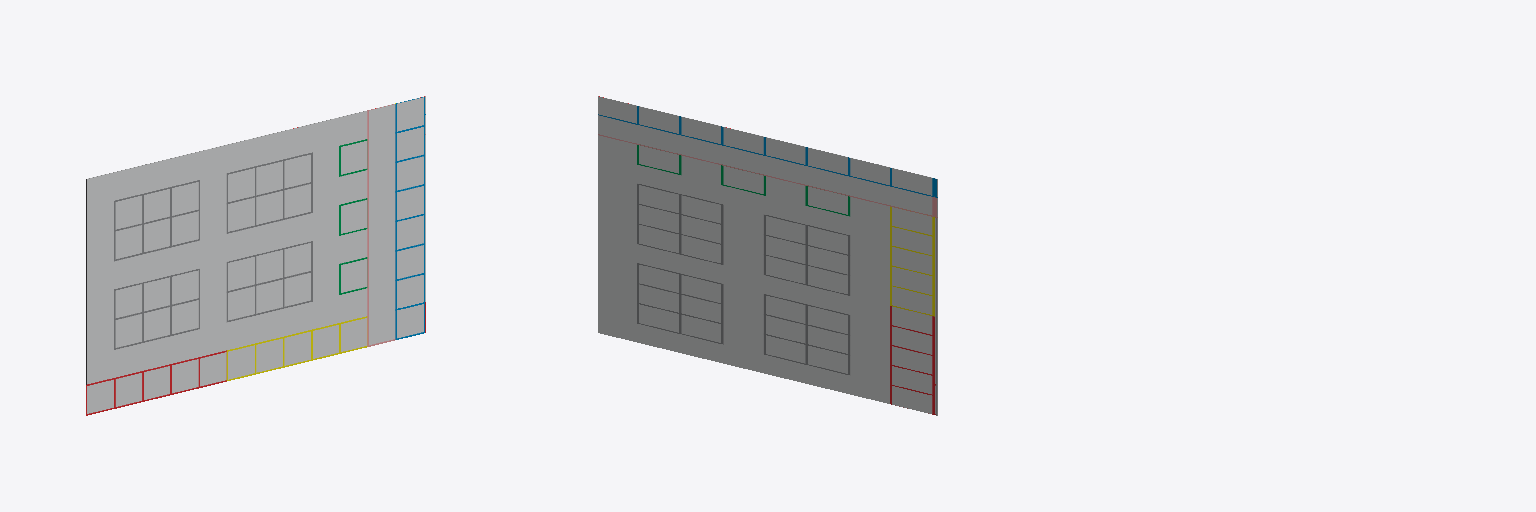
3 renders of one model, left to right at view 1: azimuth 30°, elevation 25°; view 2: azimuth 150°, elevation 25°; view 3: azimuth 270°, elevation 25°, orthographic.
Parts seen in each view (by area): view 1: Cube; view 2: Cube; view 3: none.
Part boxes in pixels (x1,y1,x2,y2): Cube: (86,96,425,415); Cube: (598,96,937,415).
Bounding box in the file's own units: 24 × 16 × 0.02.
1 materials, 1 textured.